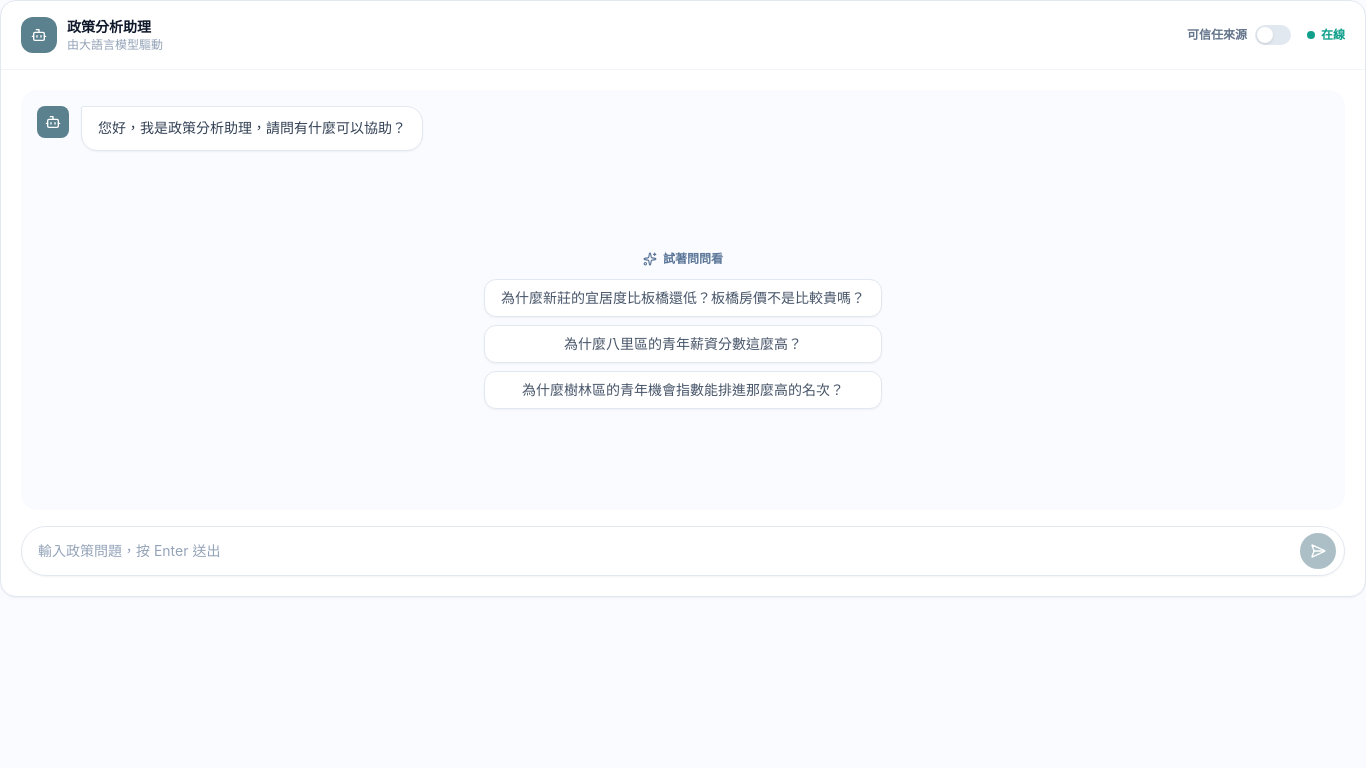
Scenario: PolicyDecisionAssistant › shows the AI Service error message when the API returns a string error
Type "你好" into the field with placeholder "輸入政策問題，按 Enter 送出".
click(661, 551); type("你好")  # box [30,541,1292,561]
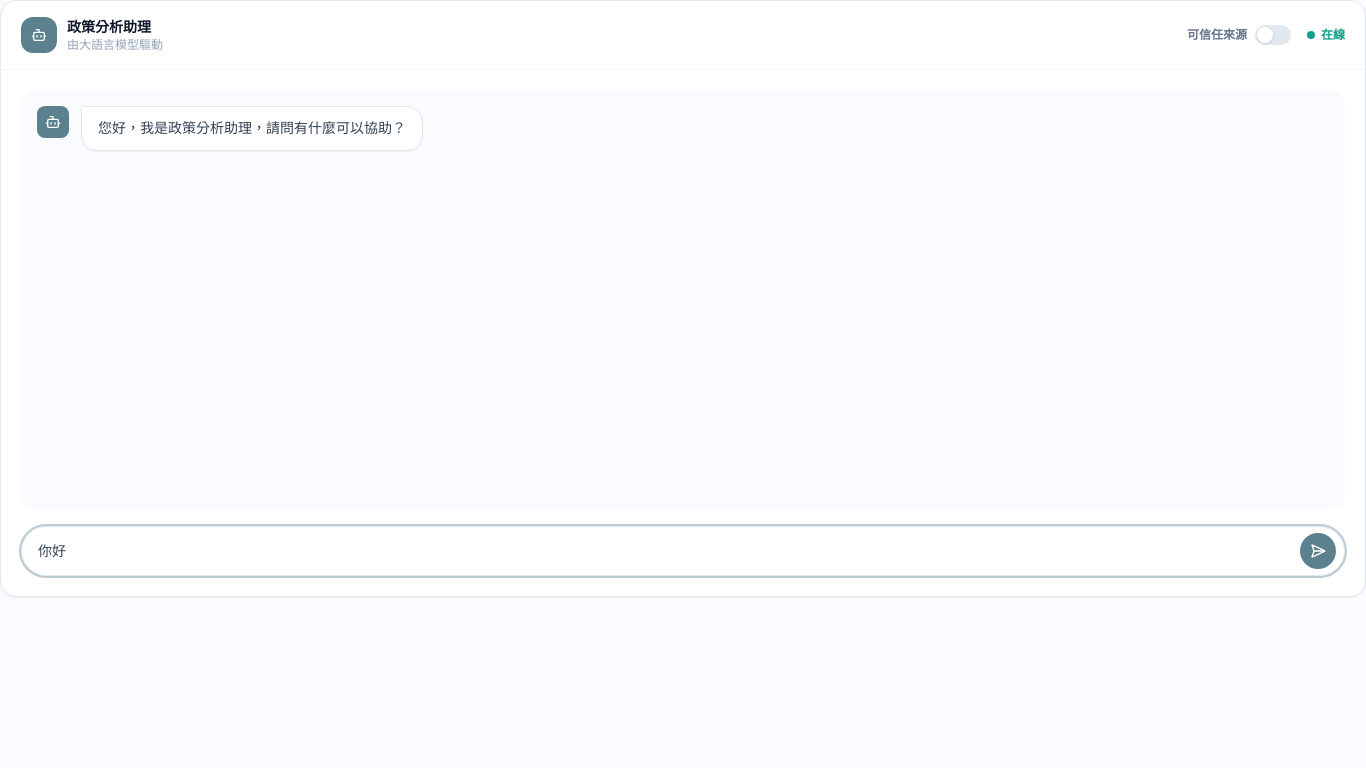
Press Enter
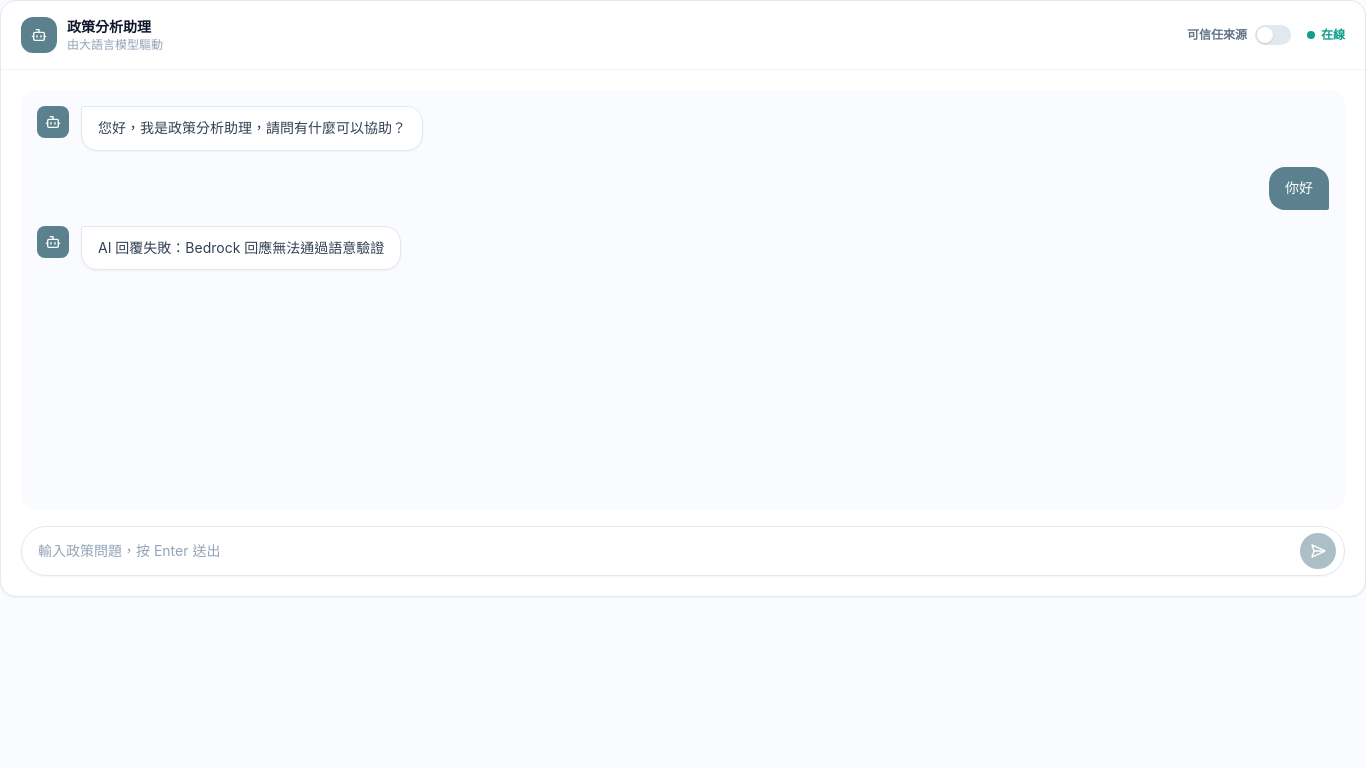
Check: the text "AI 回覆失敗：Bedrock 回應無法通過語意驗證" is shown, box [81,226,401,270]
